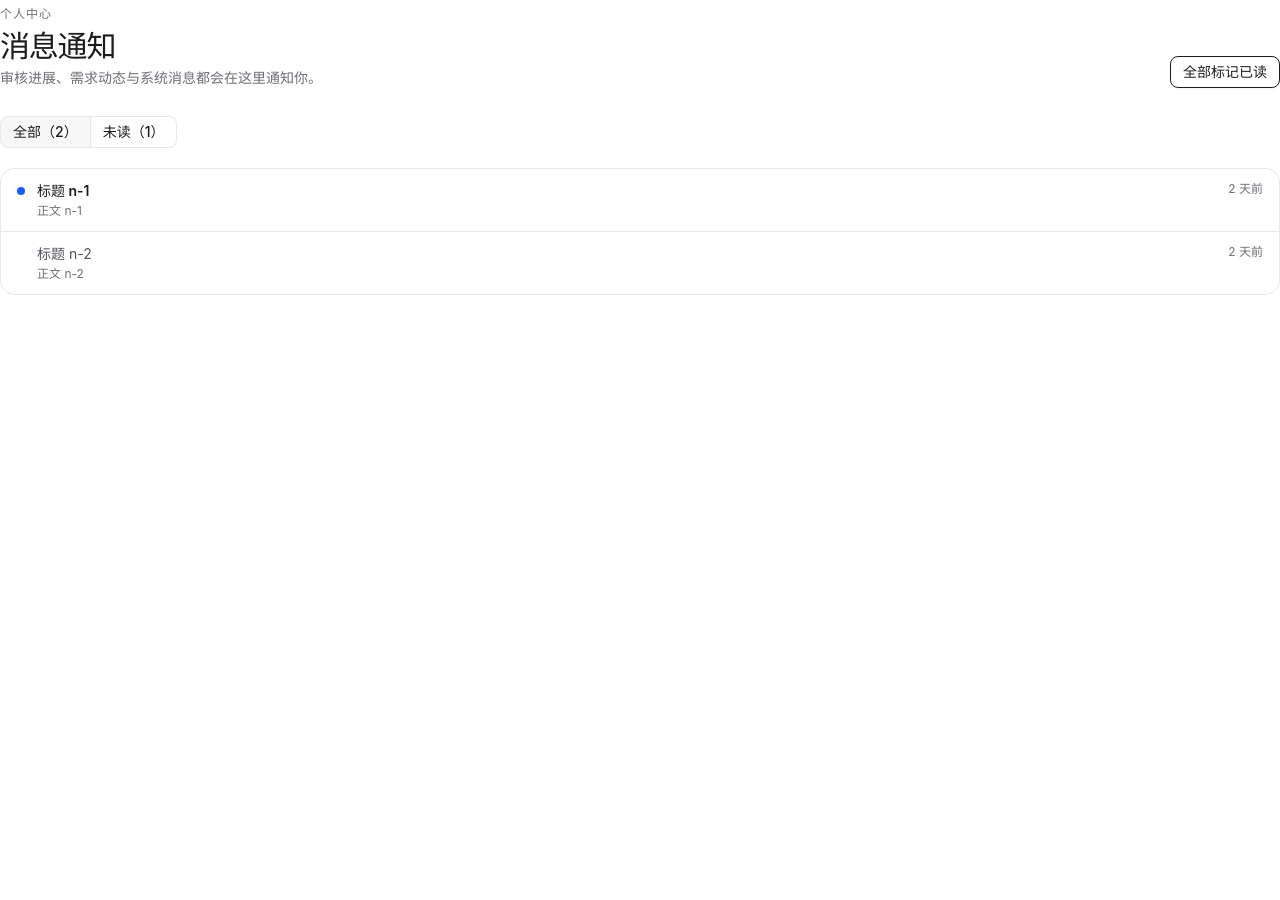
Test: portal NotificationsPage › marks a notification read when it is opened
The width and height of the screenshot is (1280, 900).
Click the text "标题 n-1" at x=63, y=190, box top-left (37, 182), bottom-right (90, 199)
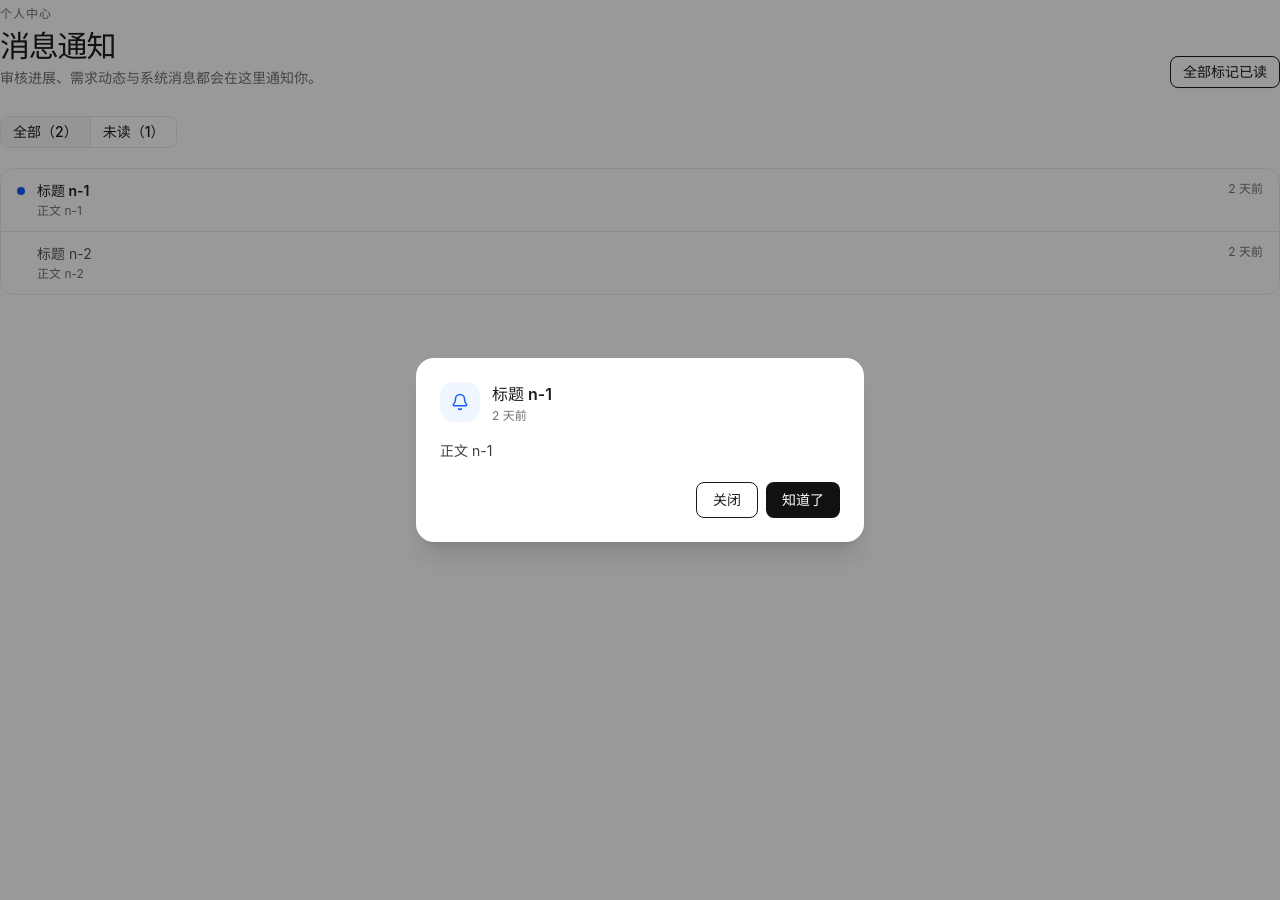
Expected: the dialog named "通知详情" is shown
